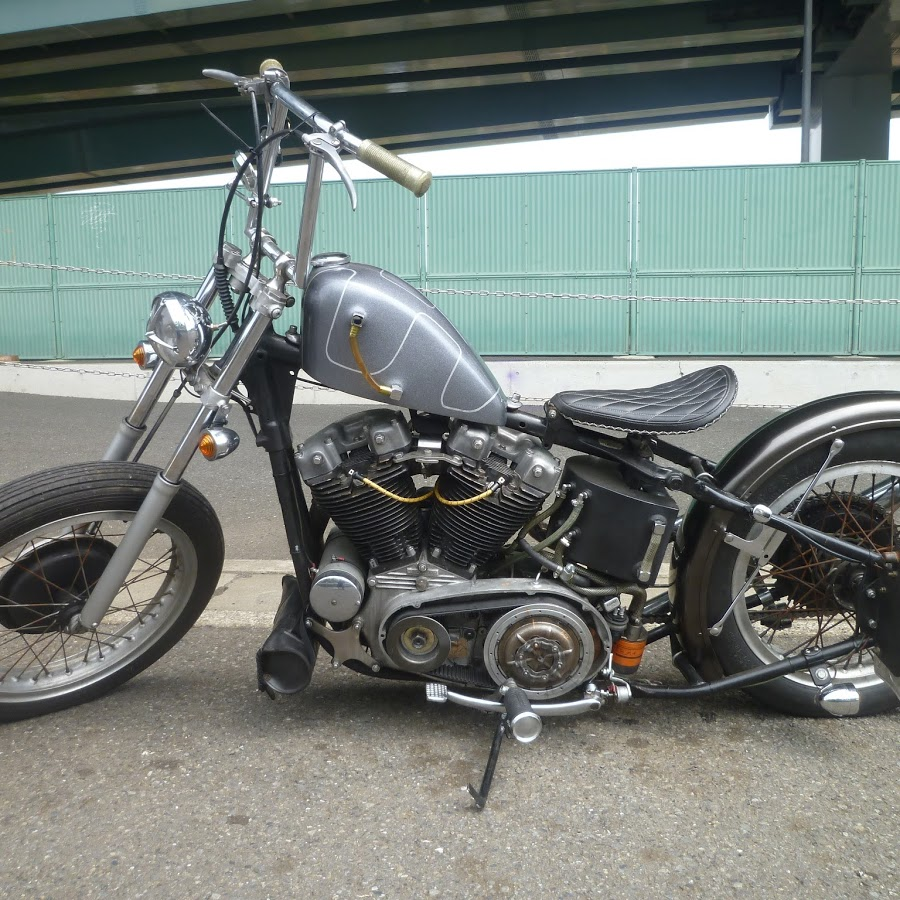Motor Cycle: (6, 71, 873, 774)
